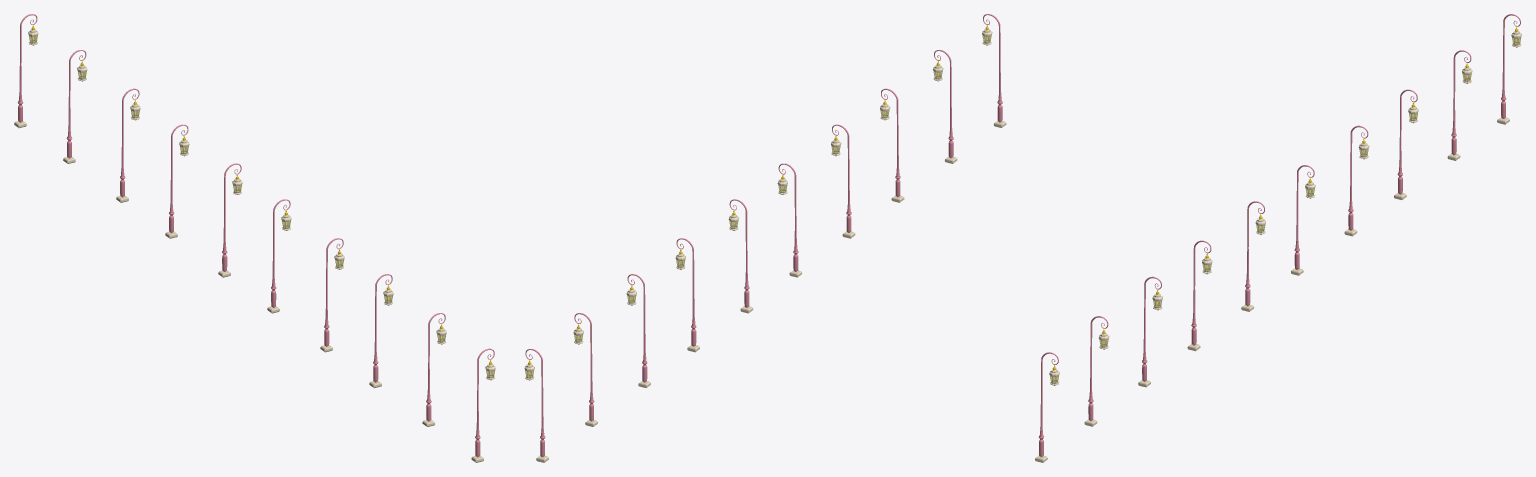
The model's file is Street_light02.fbx.
3 views of the same model, side by side, from view 1: azimuth 30°, elevation 25°; view 2: azimuth 150°, elevation 25°; view 3: azimuth 330°, elevation 25° (orthographic).
Visible parts, largest first — view 1: Street_light02_01, Street_light02_08, Street_light02_10, Street_light02_03, Street_light02_06, Street_light02_05, Street_light02_07, Street_light02_04, Street_light02_02, Street_light02_09; view 2: Street_light02_06, Street_light02_09, Street_light02_03, Street_light02_05, Street_light02_08, Street_light02_07, Street_light02_01, Street_light02_10, Street_light02_04, Street_light02_02; view 3: Street_light02_10, Street_light02_08, Street_light02_05, Street_light02_02, Street_light02_06, Street_light02_09, Street_light02_04, Street_light02_01, Street_light02_07, Street_light02_03.
Part boxes in pixels (x1,y1,x2,y2): Street_light02_01: (369,274,393,388); Street_light02_08: (63,50,87,163); Street_light02_10: (320,238,344,352); Street_light02_03: (267,199,291,313); Street_light02_06: (165,124,189,238); Street_light02_05: (218,163,242,277); Street_light02_07: (14,14,38,127); Street_light02_04: (471,348,495,462); Street_light02_02: (422,313,446,426); Street_light02_09: (116,88,140,202); Street_light02_06: (675,238,699,352); Street_light02_09: (626,274,650,387); Street_light02_03: (777,163,802,277); Street_light02_05: (728,199,753,313); Street_light02_08: (573,313,597,426); Street_light02_07: (524,349,548,462); Street_light02_01: (880,88,904,202); Street_light02_10: (831,124,855,238); Street_light02_04: (982,14,1006,127); Street_light02_02: (933,50,957,163); Street_light02_10: (1187,240,1212,351); Street_light02_08: (1447,50,1472,160); Street_light02_05: (1291,165,1315,275); Street_light02_02: (1084,316,1109,426); Street_light02_06: (1344,125,1369,236); Street_light02_09: (1394,89,1418,199); Street_light02_04: (1035,352,1059,462); Street_light02_01: (1138,276,1162,387); Street_light02_07: (1497,14,1521,124); Street_light02_03: (1241,201,1265,311).
Bounding box in the file's own units: 6.29 × 29.97 × 230.
